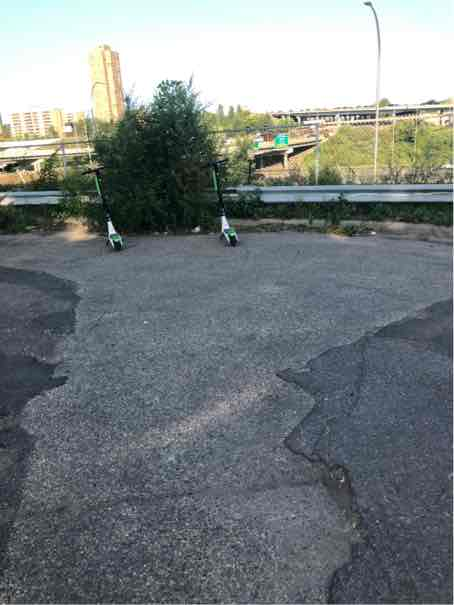scooter: (197, 156, 250, 250), (86, 165, 130, 254)
